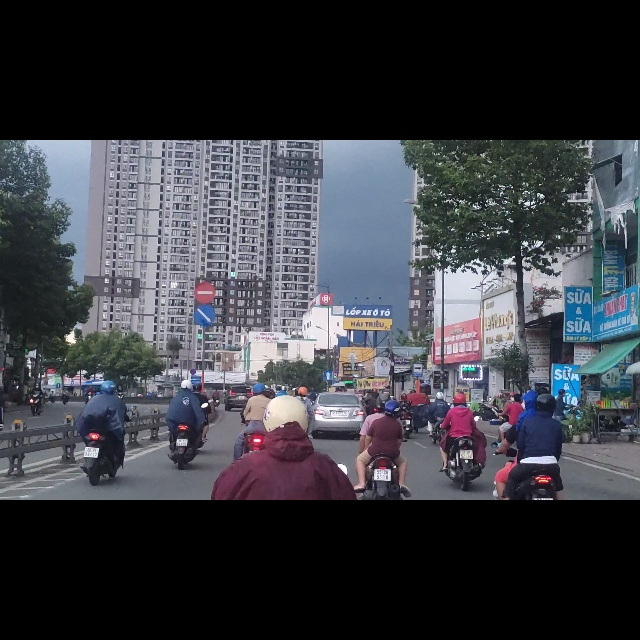bien_cam: (193, 249, 216, 291), (193, 291, 217, 331), (412, 397, 423, 421), (323, 410, 333, 427)
